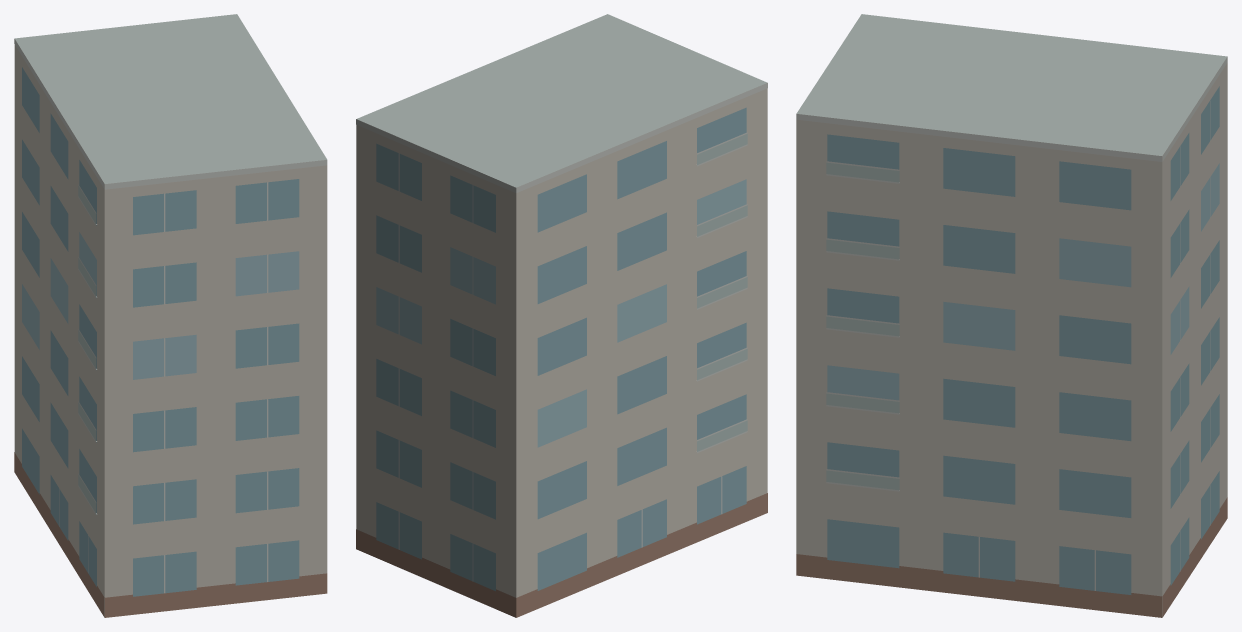
File: survey-upis-32633451.glb
The picture shows the model from 3 angles, left to right: view 1: azimuth 30°, elevation 25°; view 2: azimuth 150°, elevation 25°; view 3: azimuth 270°, elevation 25°; orthographic projection. The views are drawn at different scales.
Parts seen in each view (by area): view 1: survey-upis-32633451.tmp; view 2: survey-upis-32633451.tmp; view 3: survey-upis-32633451.tmp.
Part boxes in pixels (x1,y1,x2,y2): survey-upis-32633451.tmp: (14,14,327,617); survey-upis-32633451.tmp: (356,14,767,617); survey-upis-32633451.tmp: (796,14,1227,617).
Bounding box in the file's own units: 12.62 × 19.1 × 16.18.
